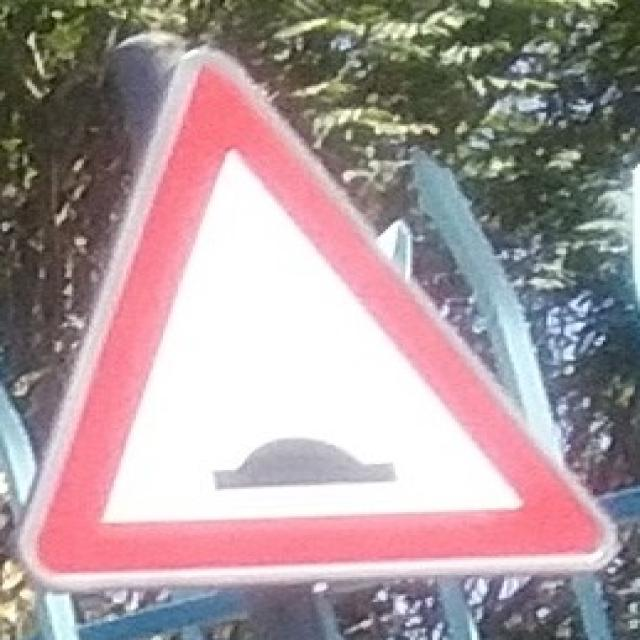HUMP_OR_ROUGH_ROAD: (26, 42, 619, 589)
